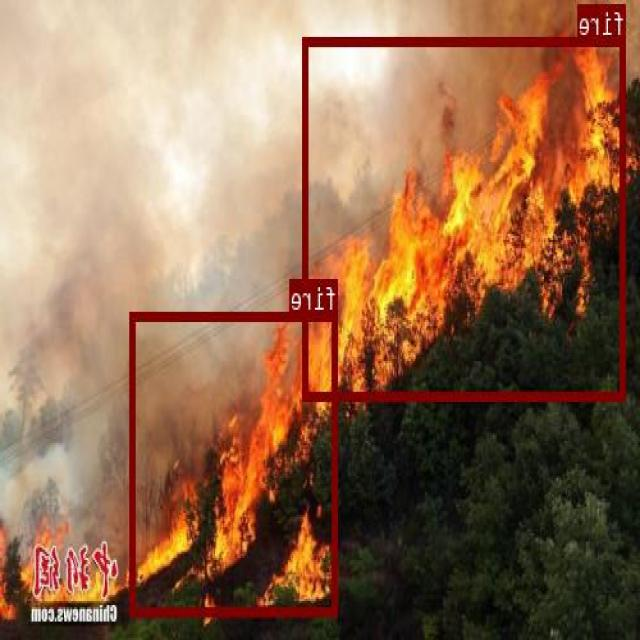fire: (304, 36, 626, 399), (131, 311, 338, 615)
